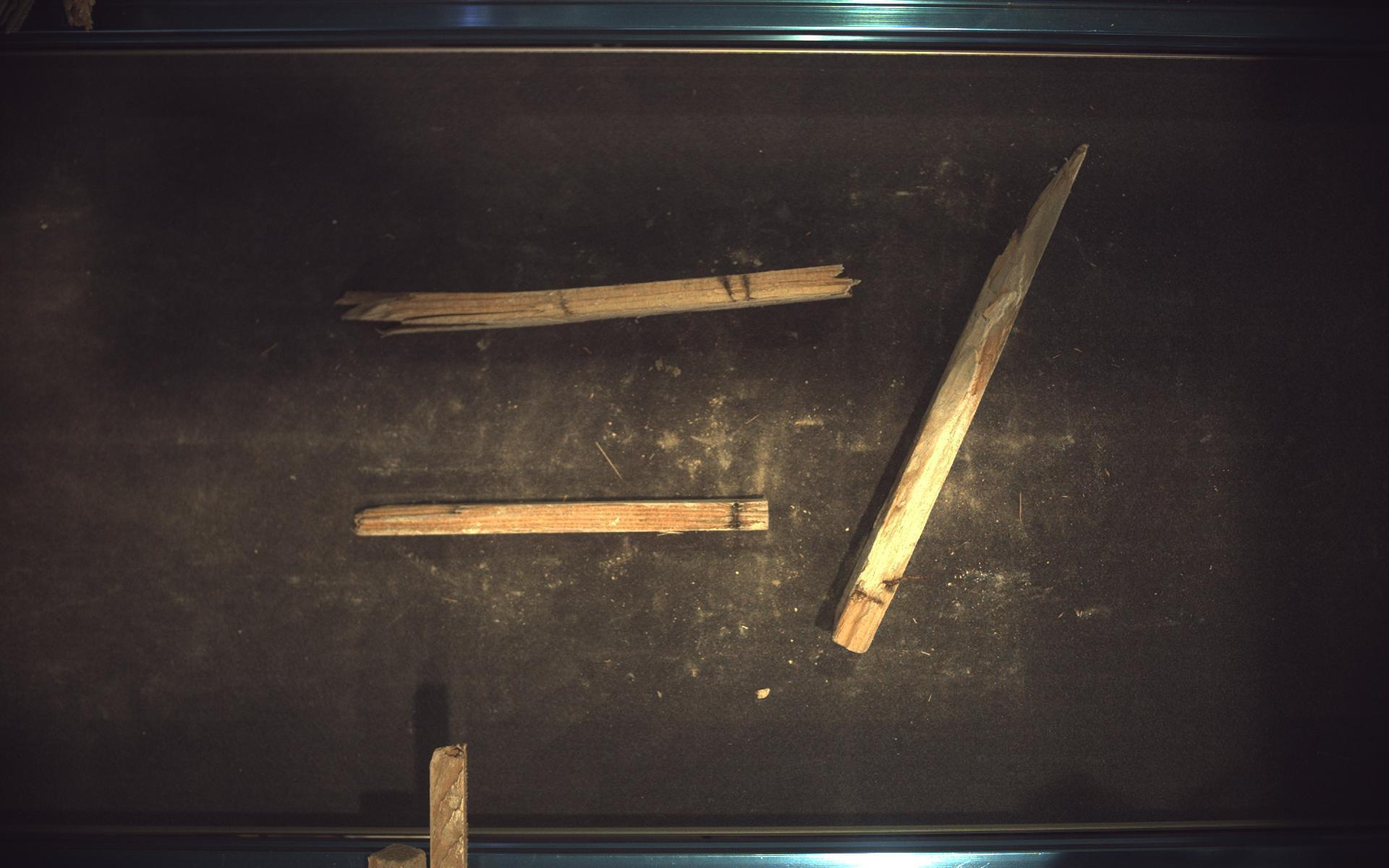wood: (834, 143, 1090, 654), (337, 264, 857, 334), (354, 499, 770, 537)
